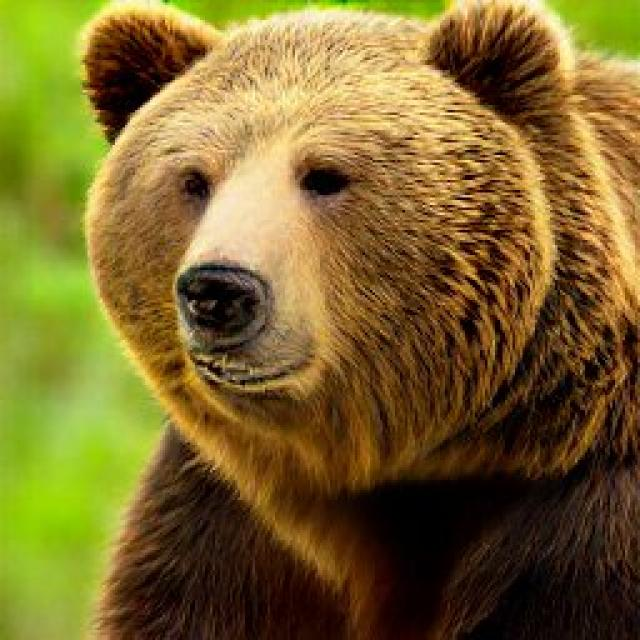not_pig: (75, 0, 637, 638)
